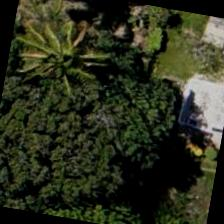Kelapa_Sawit: (2, 1, 106, 105)
